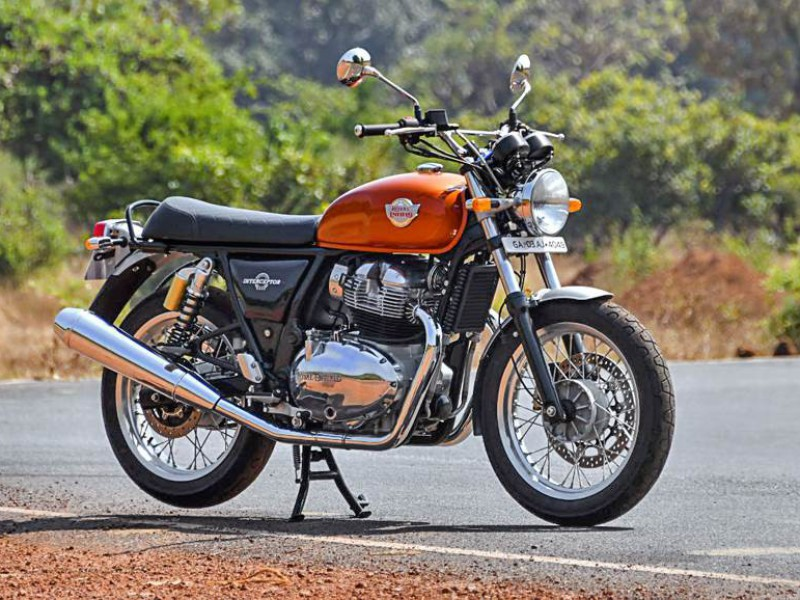motorcycle: (43, 45, 682, 522)
